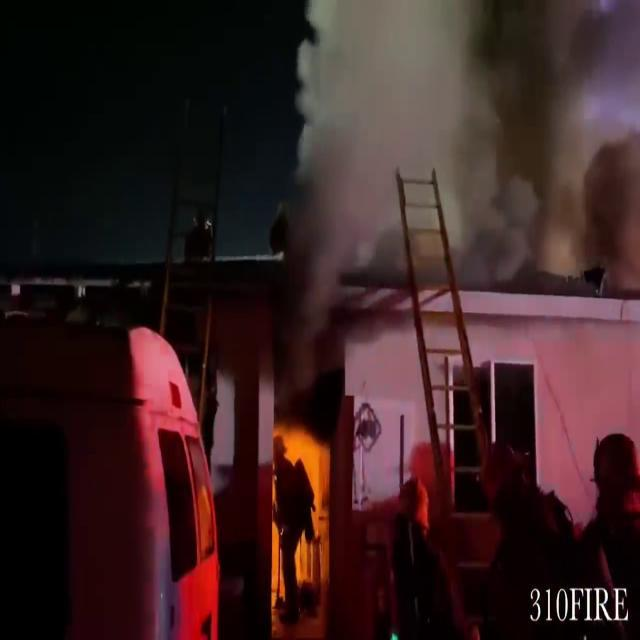Fire: (271, 418, 333, 632)
Smoke: (276, 1, 640, 305)
